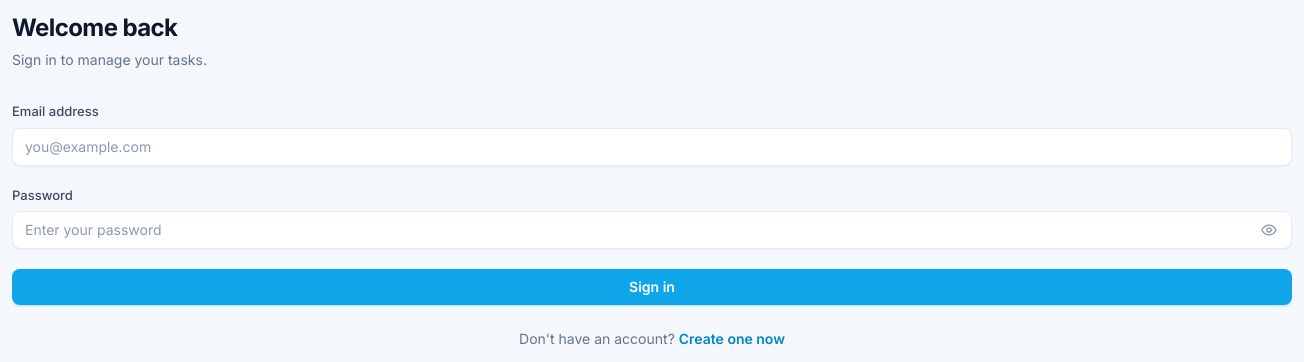
LoginForm › keeps the typed value when toggling password visibility before submit
The width and height of the screenshot is (1304, 362).
Step 1. Type "Password123" into the password field labelled "Password" → (652, 230), box [12,211,1292,249]
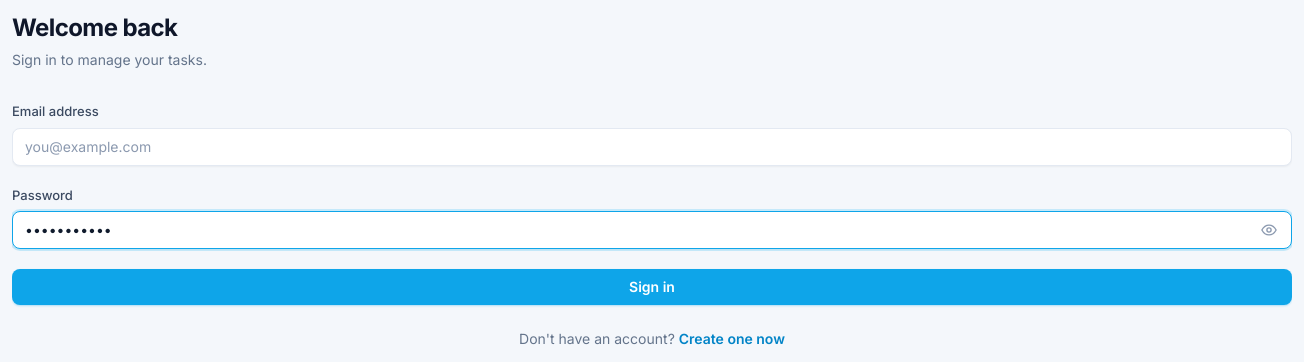
Step 2. Click the button named "Show password" → (1269, 230), box [1256,217,1282,243]
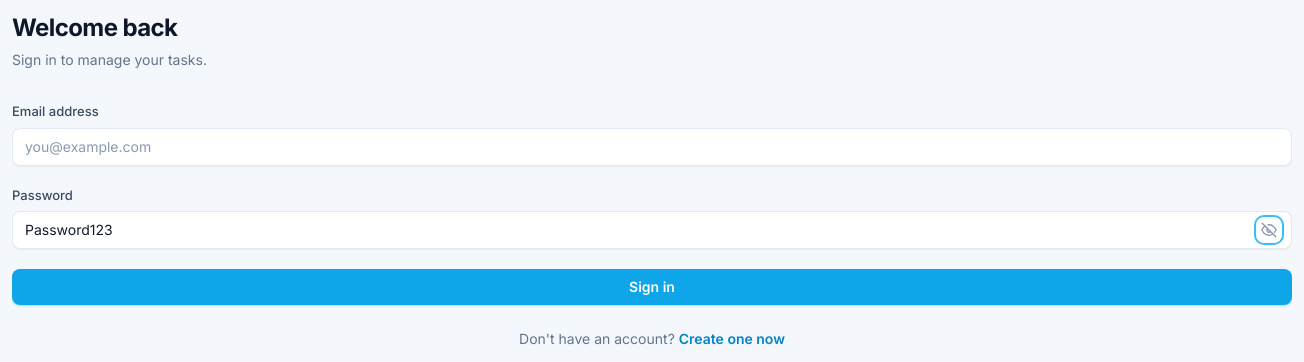
Result: the field labelled "Password" shows its text at [12,211,1292,249]
